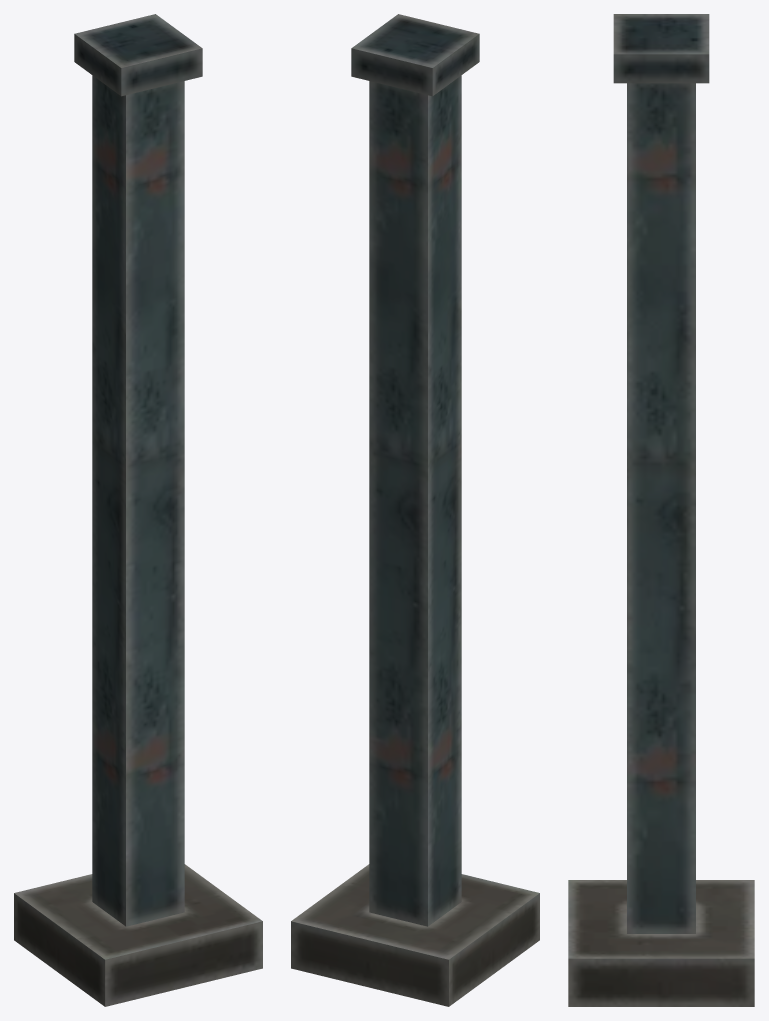
File: fence_post.glb
The picture shows the model from 3 angles, left to right: view 1: azimuth 30°, elevation 25°; view 2: azimuth 150°, elevation 25°; view 3: azimuth 270°, elevation 25°; orthographic projection. The views are drawn at different scales.
Parts seen in each view (by area): view 1: te_grounds_fence_post; view 2: te_grounds_fence_post; view 3: te_grounds_fence_post.
Boxes of the visible parts, bbox=[...] form: te_grounds_fence_post: bbox=[14, 14, 262, 1006]; te_grounds_fence_post: bbox=[291, 14, 539, 1006]; te_grounds_fence_post: bbox=[568, 14, 754, 1006].
Size of the model in its own units: 0.07 by 0.387 by 0.07.
Materials: 1 (1 with a texture image).
